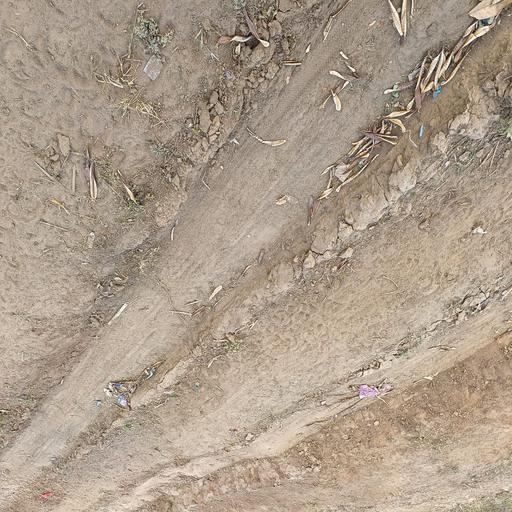vehicle_track: (0, 0, 482, 512), (100, 270, 512, 512)
